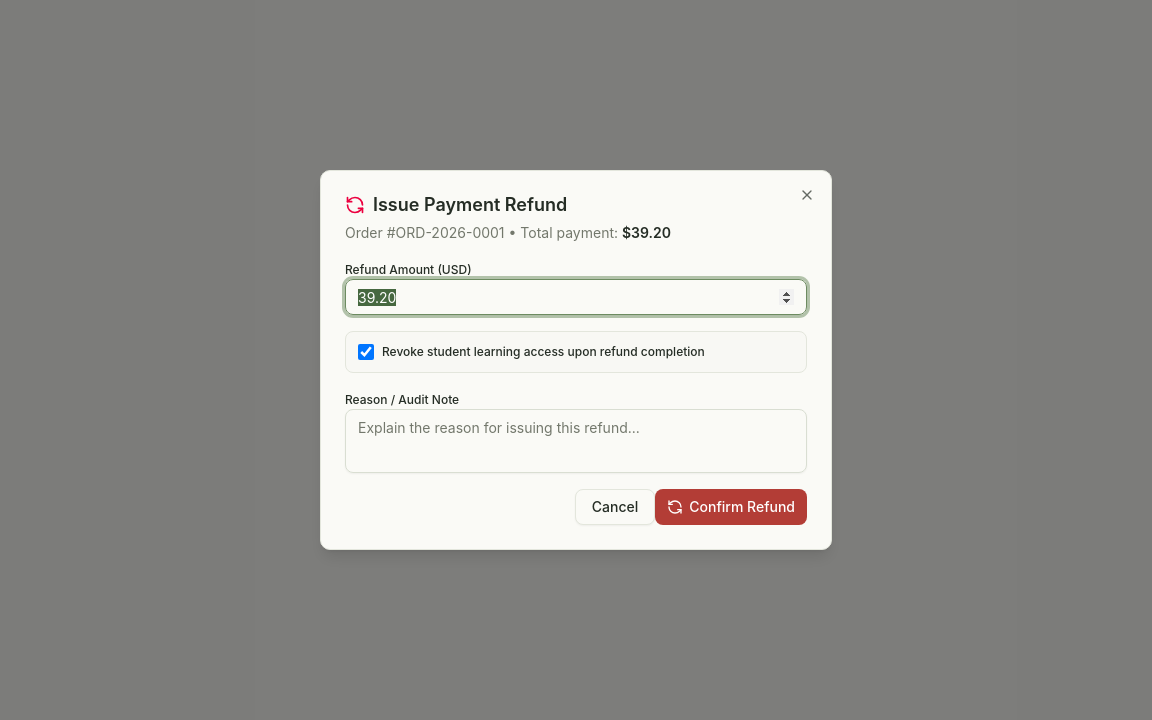
Test: RefundDialog › validates that reason is required before submitting
Click the button "Confirm Refund" at (731, 507), box 655,489 -> 807,525
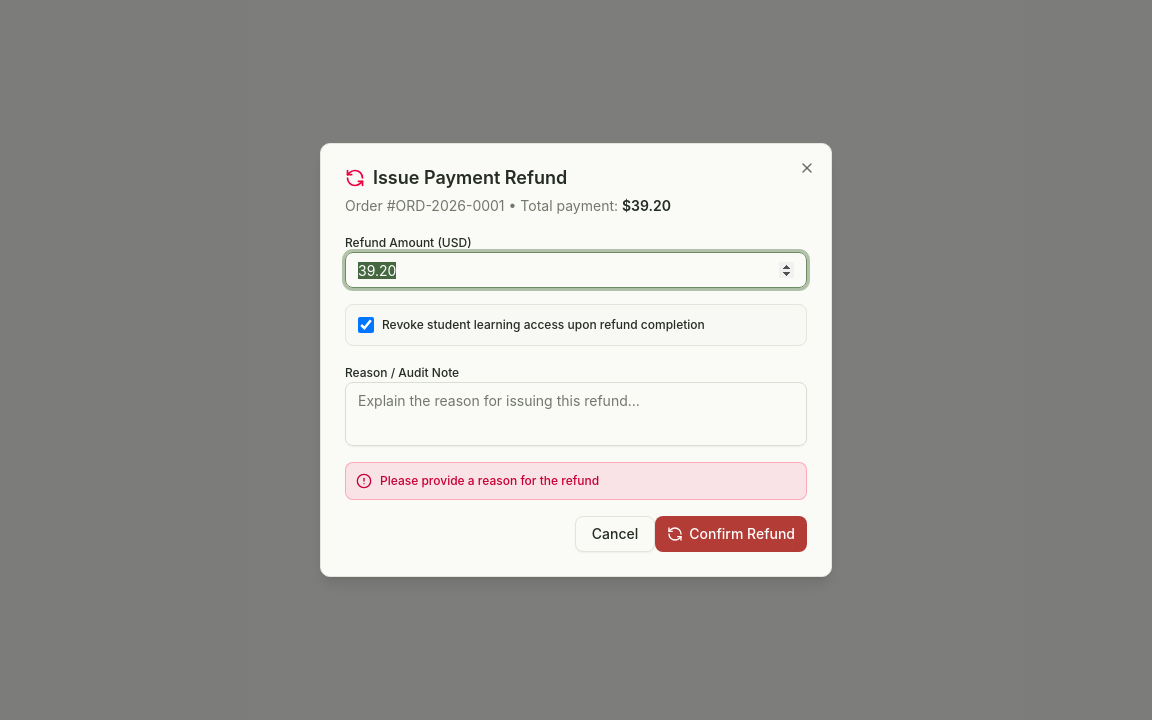
Expected: the text "Please provide a reason for the refund" is shown, 380,473 -> 599,489
